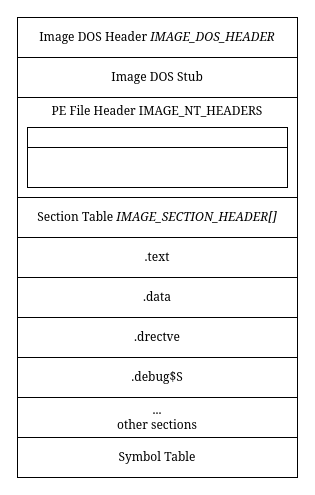
This 315x495 diagram has some shape labels left out. Here are the shapes that lost their labels. From the top down, the centre of each, then its label:
pixel 157 137: Image Header IMAGE_FILE_HEADER
pixel 157 167: Image Optional Header IMAGE_OPTIONAL_HEADER32
